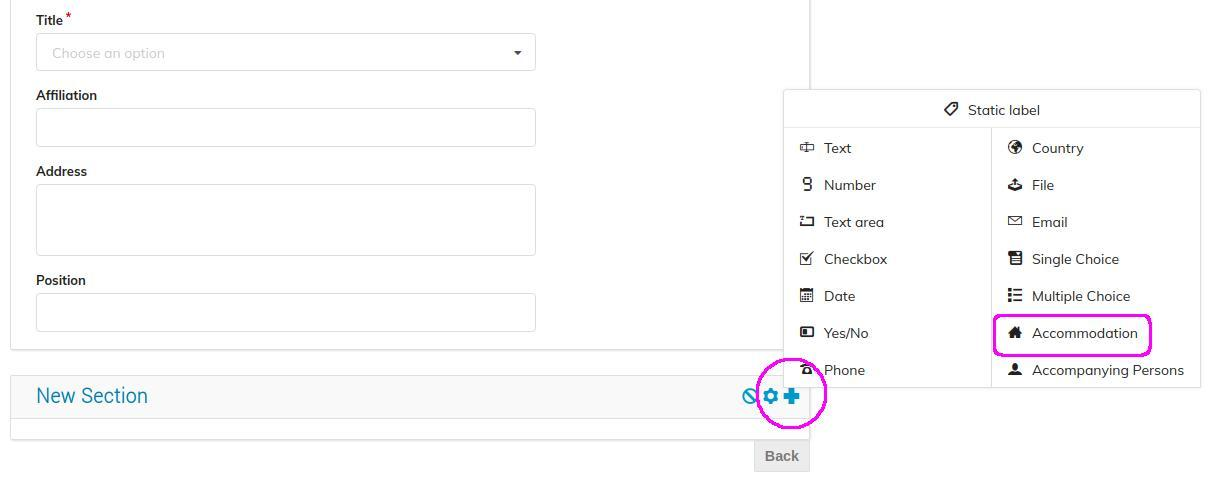button: (754, 440, 813, 473)
dropdown: (38, 35, 536, 71)
icon: (1002, 285, 1029, 310), (1002, 248, 1030, 270), (1004, 210, 1027, 232), (799, 174, 818, 200), (1005, 138, 1026, 161), (796, 284, 817, 306), (797, 321, 819, 342), (798, 248, 818, 271), (1004, 175, 1024, 198), (797, 211, 816, 235), (784, 387, 805, 408), (941, 100, 963, 120), (1006, 361, 1028, 381), (739, 386, 758, 408), (762, 386, 781, 408), (1008, 326, 1027, 344), (799, 138, 817, 156)
input: (40, 185, 539, 257), (35, 108, 539, 151), (39, 294, 537, 334)
label: (1034, 364, 1188, 379), (967, 100, 1045, 121), (1032, 289, 1133, 304), (1034, 252, 1122, 268), (1034, 329, 1142, 342), (26, 8, 82, 32), (35, 85, 101, 104), (823, 252, 892, 270), (34, 162, 99, 180), (824, 217, 887, 233), (1030, 213, 1077, 233), (823, 326, 878, 343), (1033, 142, 1087, 159), (822, 178, 882, 193), (36, 275, 94, 290), (825, 362, 870, 379), (823, 289, 861, 307), (823, 141, 856, 160), (1030, 177, 1062, 196)
